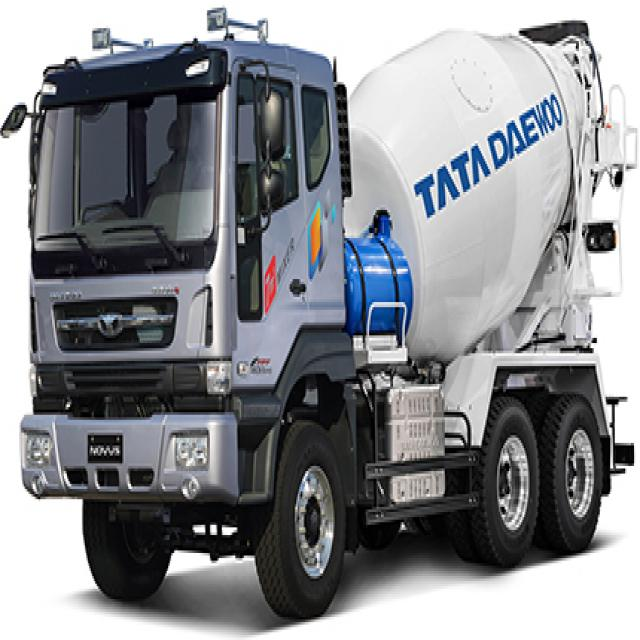Mixer Truck: (21, 21, 638, 617)
